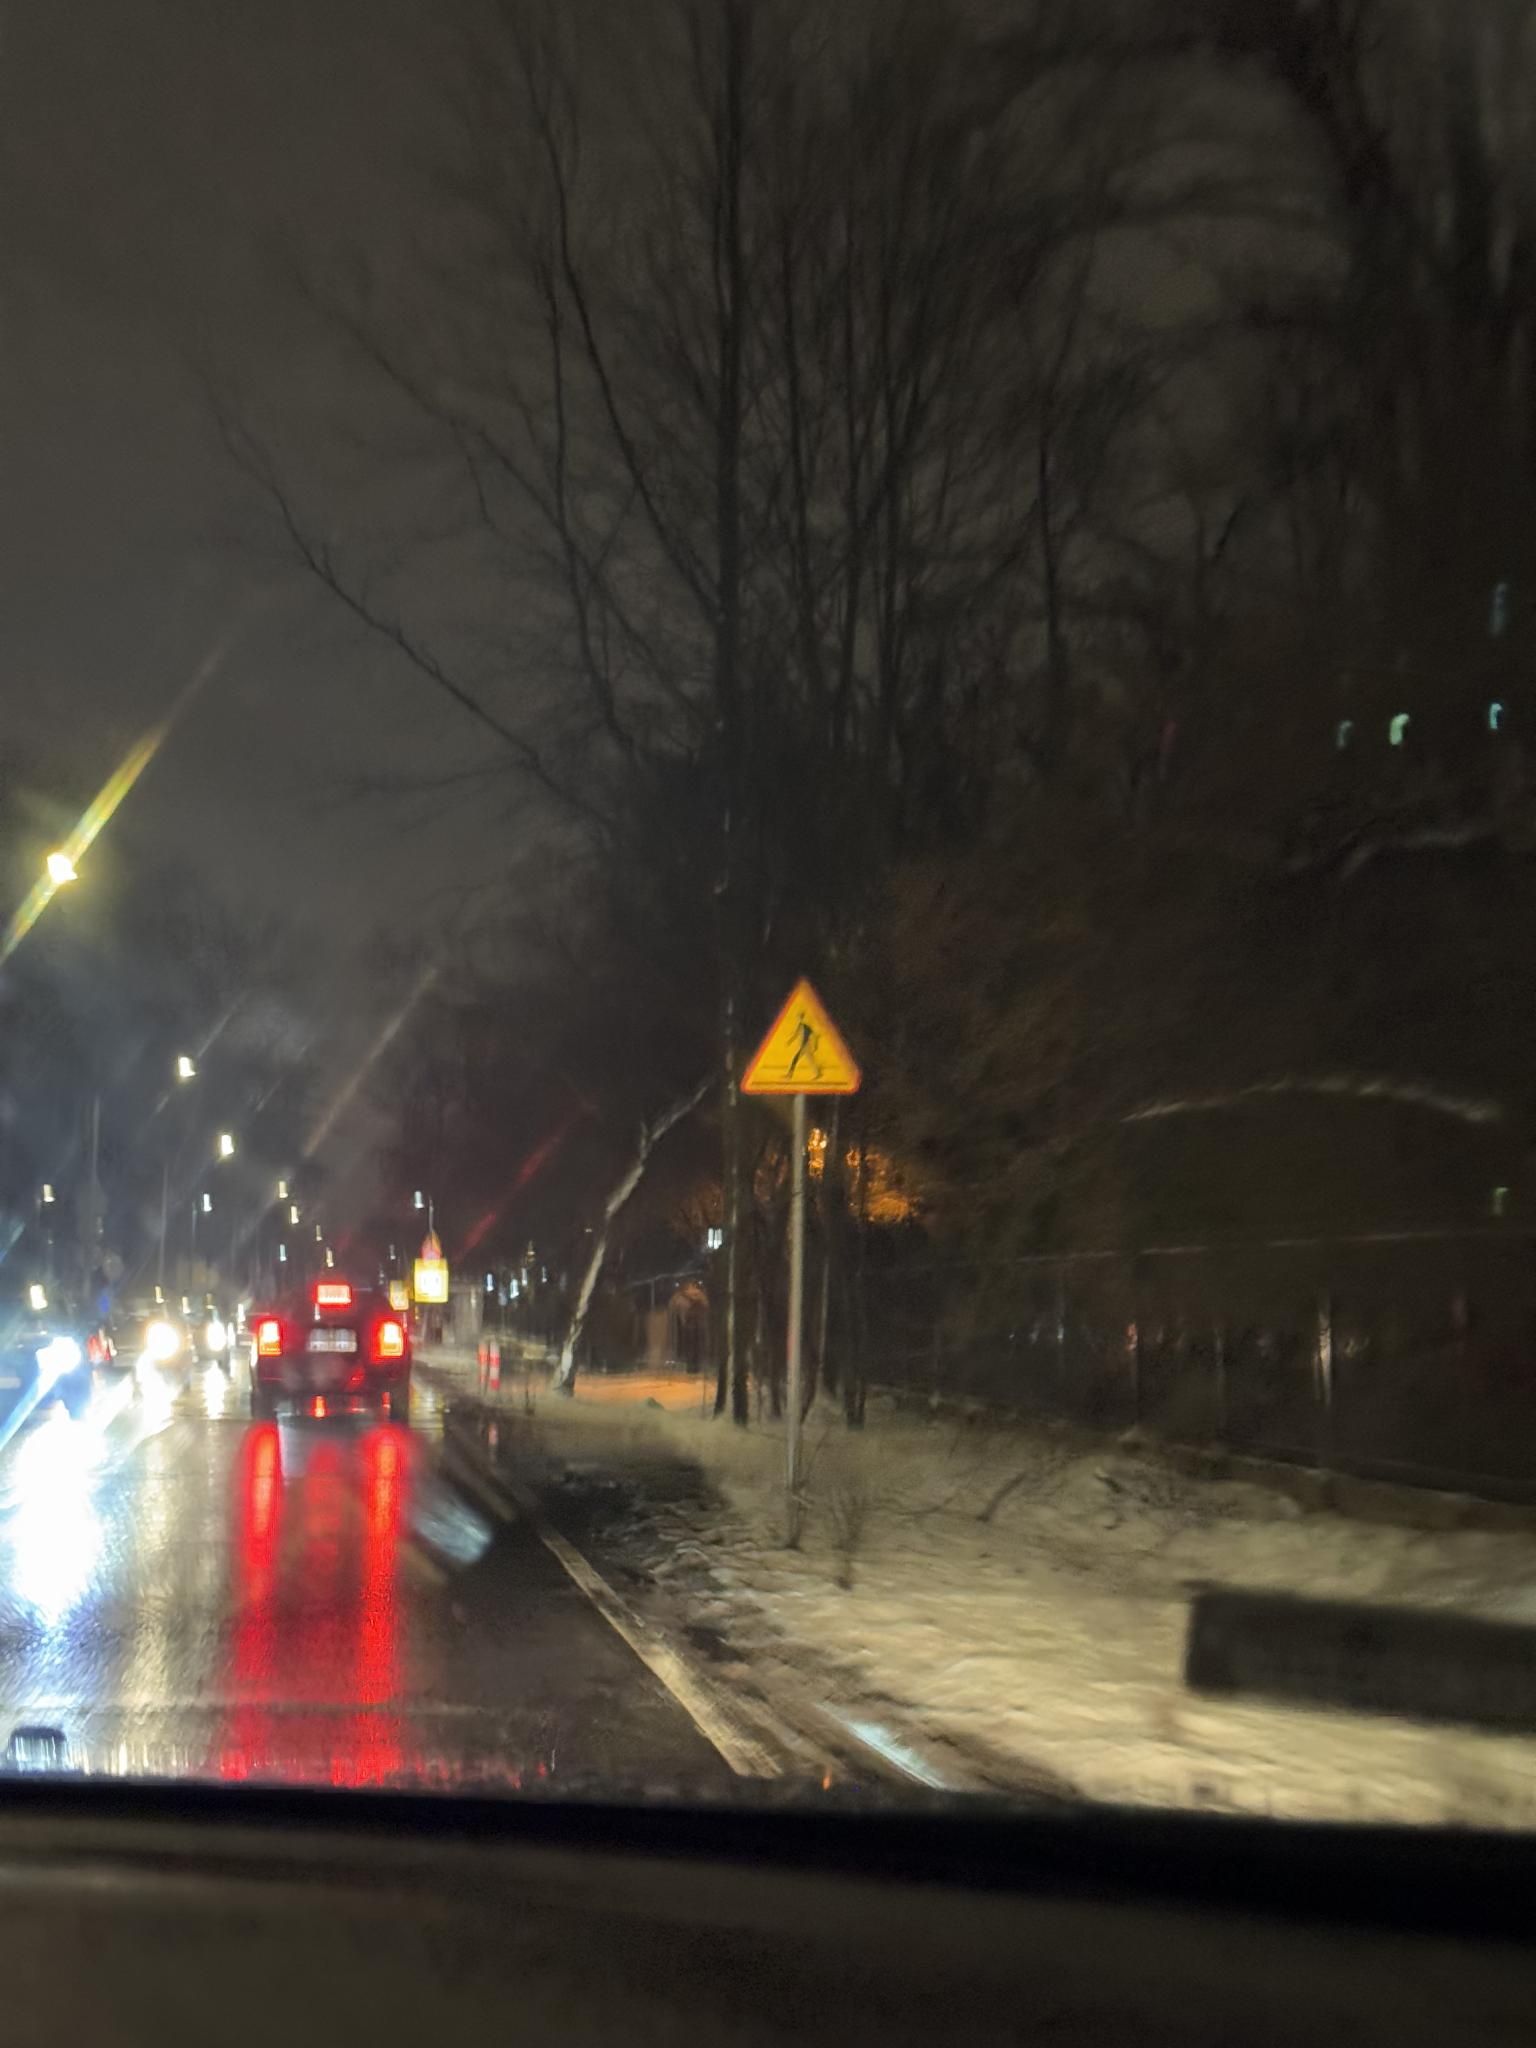warning: (739, 978, 863, 1096)
